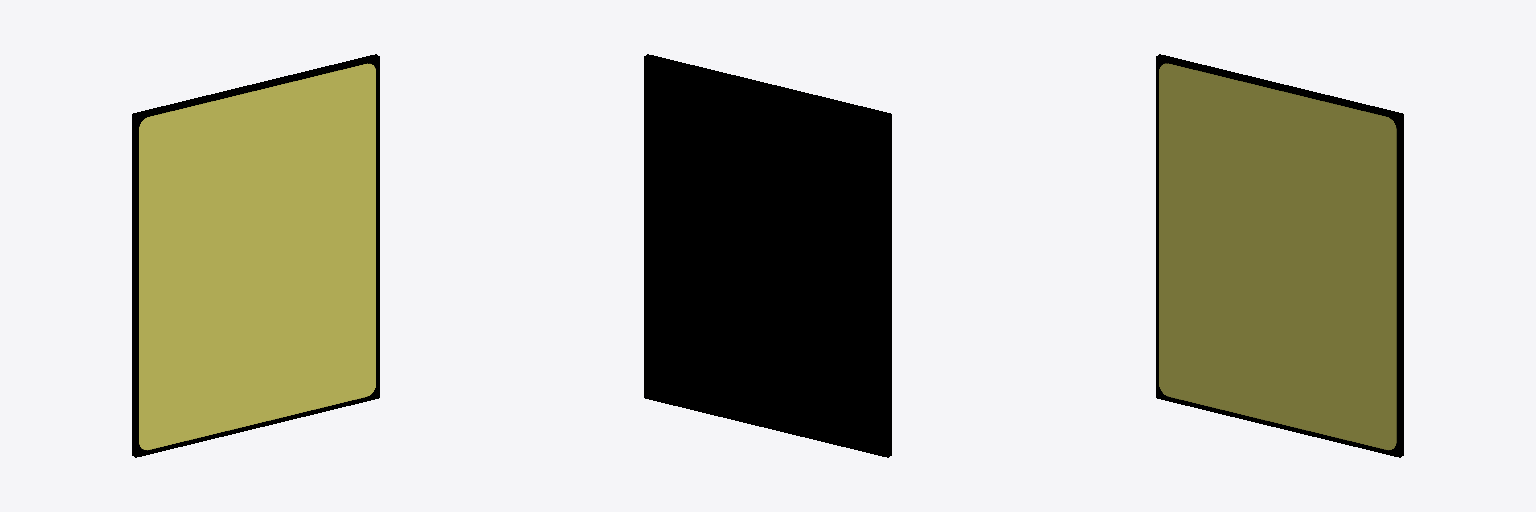
The picture shows the model from 3 angles: view 1: azimuth 30°, elevation 25°; view 2: azimuth 150°, elevation 25°; view 3: azimuth 330°, elevation 25°; orthographic projection.
Parts seen in each view (by area): view 1: Cube.004_Cube.006; view 2: Cube.004_Cube.006; view 3: Cube.004_Cube.006.
Boxes of the visible parts, <box> form: Cube.004_Cube.006: <box>132,54,379,457</box>; Cube.004_Cube.006: <box>644,54,891,457</box>; Cube.004_Cube.006: <box>1156,54,1403,457</box>.
Size of the model in its own units: 1.5 by 2 by 0.04.
Materials: 1 (1 with a texture image).